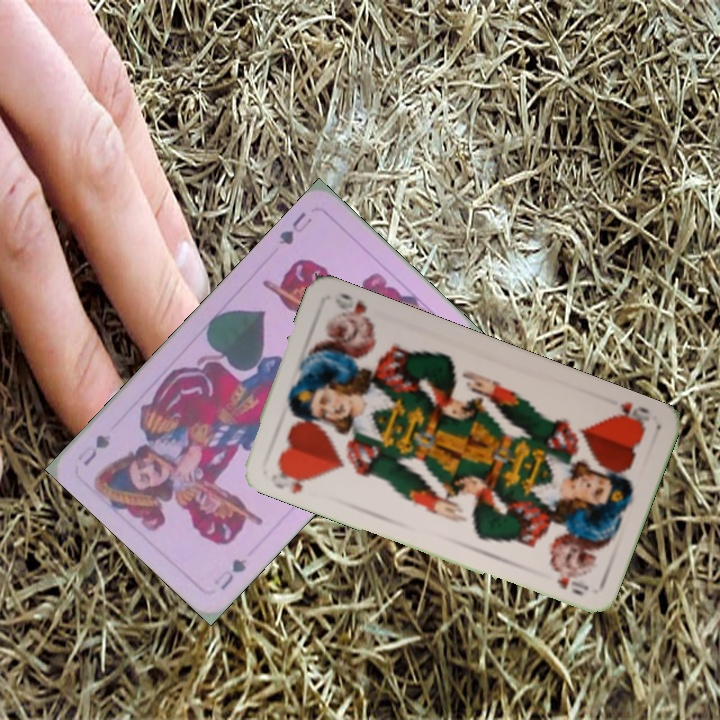GU: (275, 207, 315, 248), (209, 554, 250, 593)
HO: (267, 461, 319, 497), (608, 398, 653, 432)
